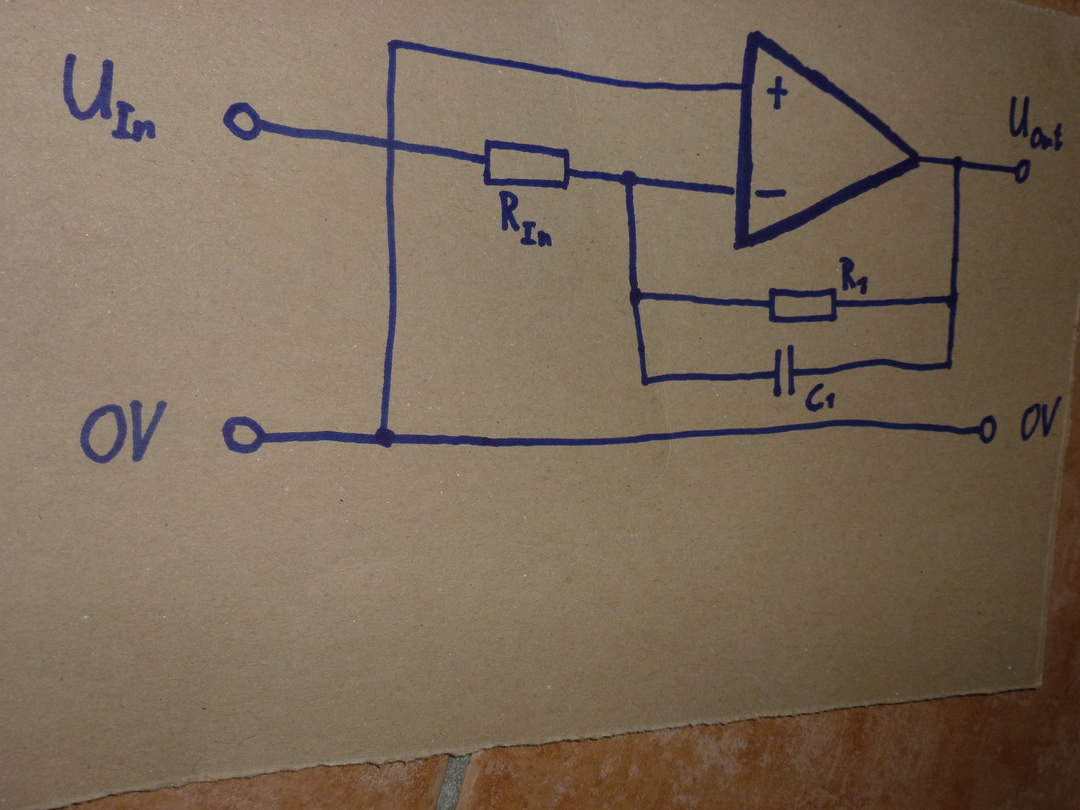capacitor.unpolarized: (769, 343, 798, 398)
crossover: (381, 133, 403, 157)
junction: (371, 425, 398, 452), (626, 284, 646, 309), (943, 290, 963, 310), (619, 168, 638, 189), (636, 371, 655, 390), (950, 153, 966, 173), (385, 37, 402, 53), (942, 357, 957, 373)
operational_amplifier: (731, 25, 925, 253)
resistor: (481, 137, 573, 193), (766, 285, 840, 325)
terminal: (219, 412, 267, 457), (218, 99, 266, 144), (976, 412, 999, 446), (1011, 157, 1033, 186)
text: (60, 50, 159, 144), (78, 398, 169, 466), (492, 188, 556, 250), (1007, 94, 1066, 153), (1019, 394, 1065, 442), (837, 253, 870, 296), (803, 381, 837, 414)
